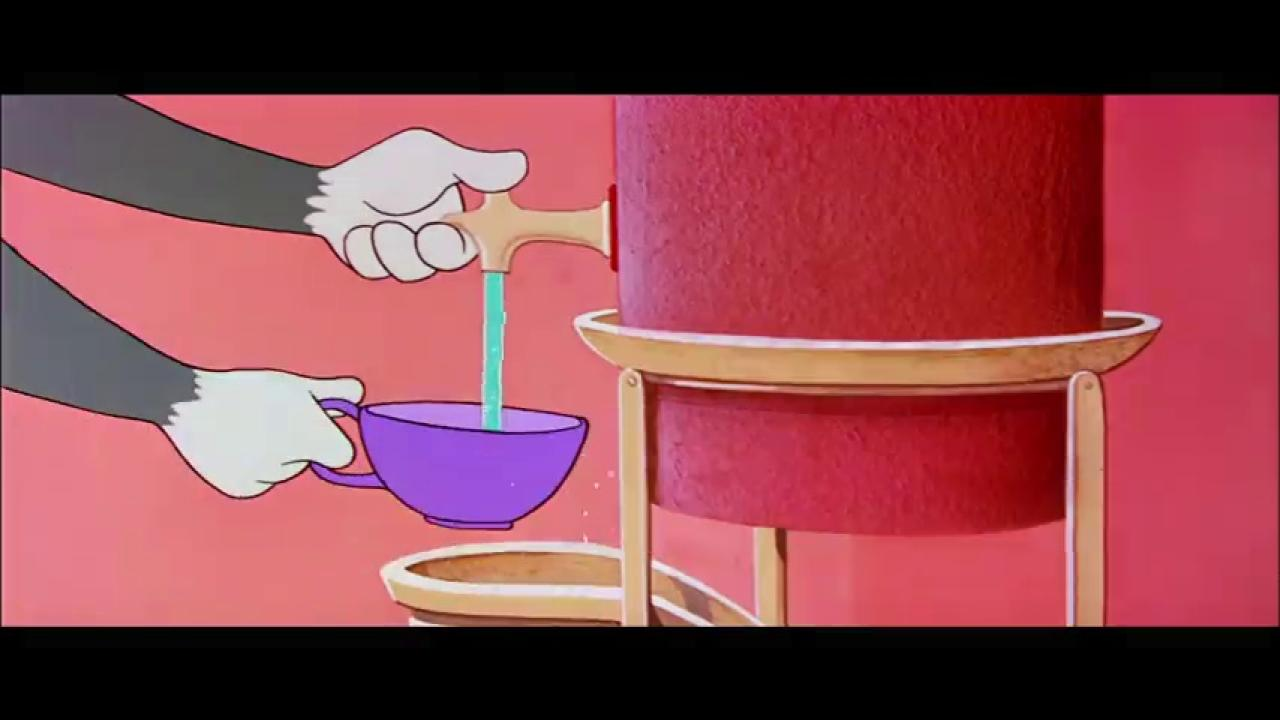Tom: (0, 93, 530, 502)
